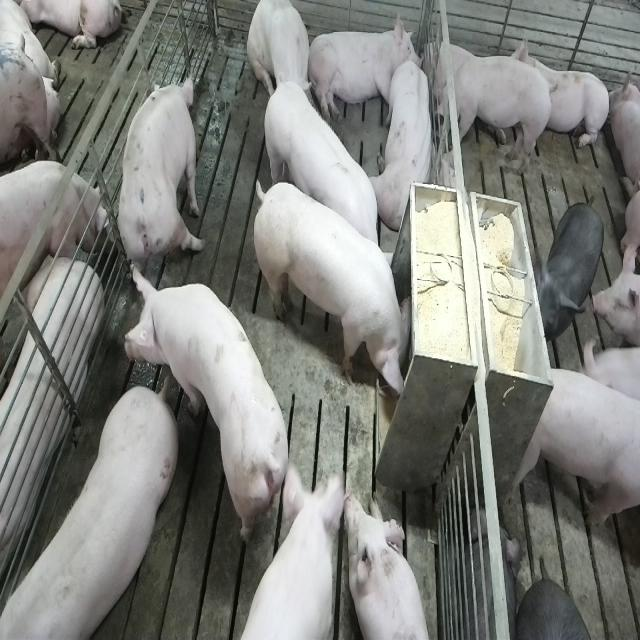Feeding: (255, 174, 419, 405)
Lateral_lying: (306, 14, 424, 128)
Sitting: (247, 1, 316, 113)
Standing: (126, 270, 294, 554), (0, 384, 175, 640), (260, 77, 387, 277), (506, 367, 638, 540), (116, 73, 206, 285), (428, 51, 555, 182), (0, 162, 106, 303), (538, 196, 604, 319)
Sternal_lying: (236, 465, 350, 640), (348, 489, 433, 640), (512, 29, 610, 153), (374, 60, 437, 233)
